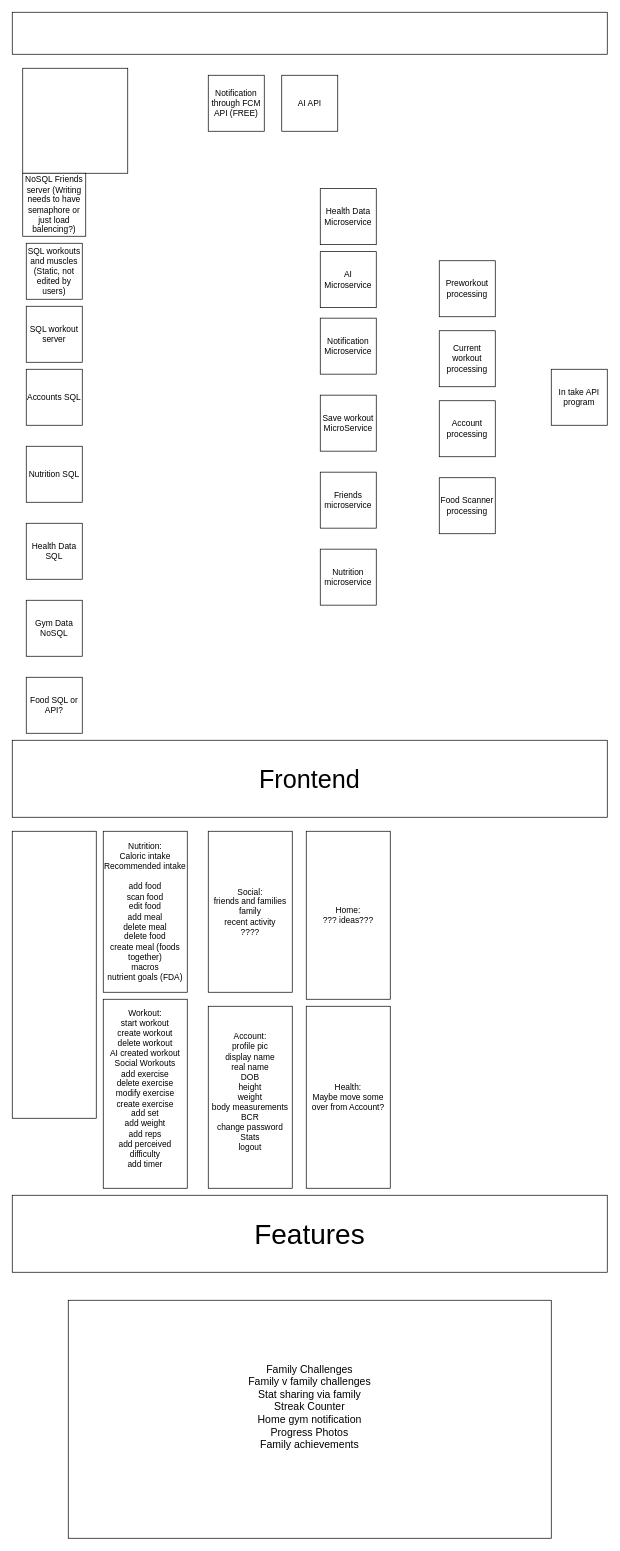
Some shapes in this 620 by 1551 pixel diagram are drawn without their labels. The shapes that lost their labels are listed below. From the top down, each one's centre as x and y in pixels, then its label:
At point (309, 33): "Backend".
At point (75, 120): "NoSQL family server (Writing needs to have semaphore) Writes on acceptance".
At point (54, 974): "Tabs: Nutrition Workout Social Account Health home etc".
